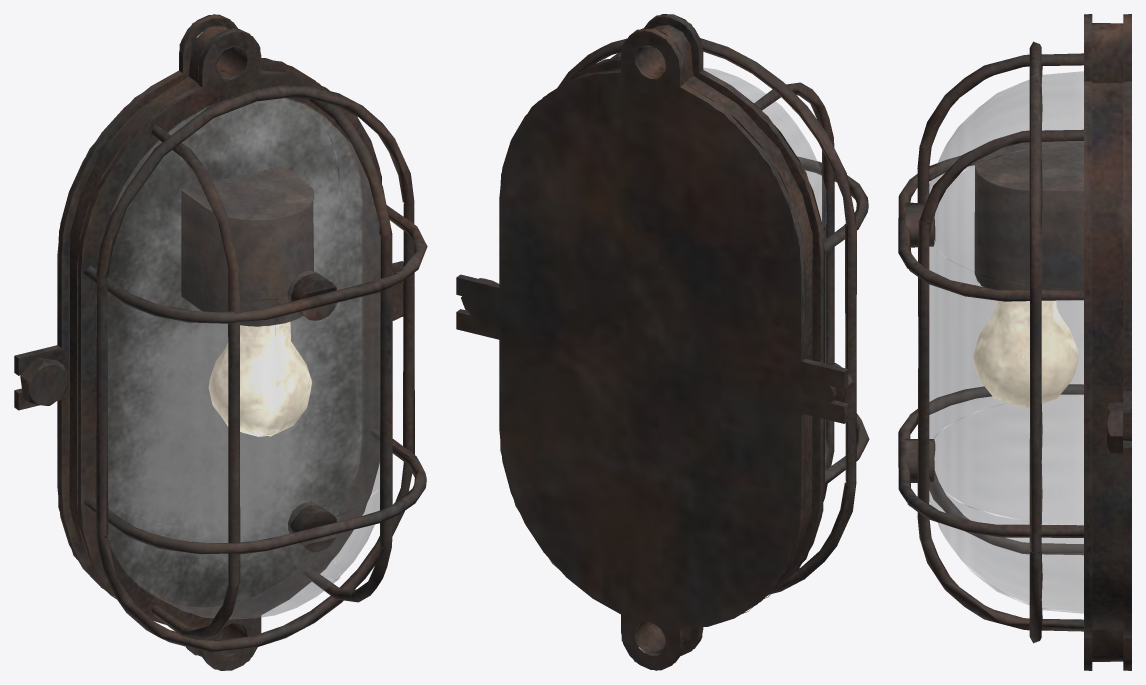
File: industrial_wall_lamp.glb
3 views of the same model, side by side, from view 1: azimuth 30°, elevation 25°; view 2: azimuth 150°, elevation 25°; view 3: azimuth 270°, elevation 25° (orthographic).
Parts seen in each view (by area): view 1: industrial_wall_lamp; view 2: industrial_wall_lamp; view 3: industrial_wall_lamp.
Boxes of the visible parts, x1,y1,x2,y2 form: industrial_wall_lamp: (14,14,427,670); industrial_wall_lamp: (456,14,869,670); industrial_wall_lamp: (898,14,1131,670).
Size of the model in its own units: 0.2735 by 0.4299 by 0.1401.
2 materials, 2 textured.
